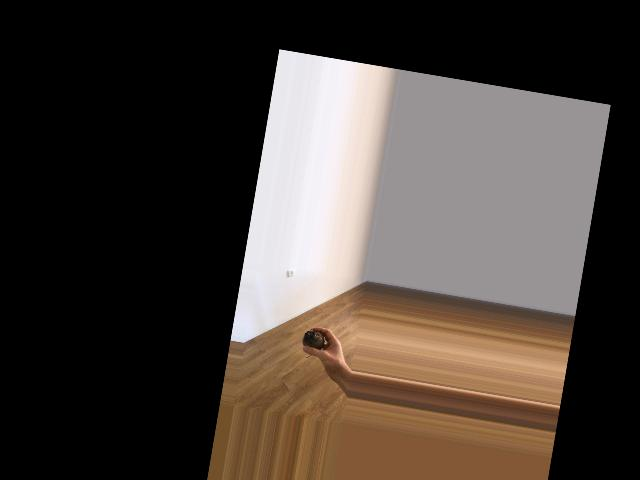beet: (299, 328, 326, 360)
